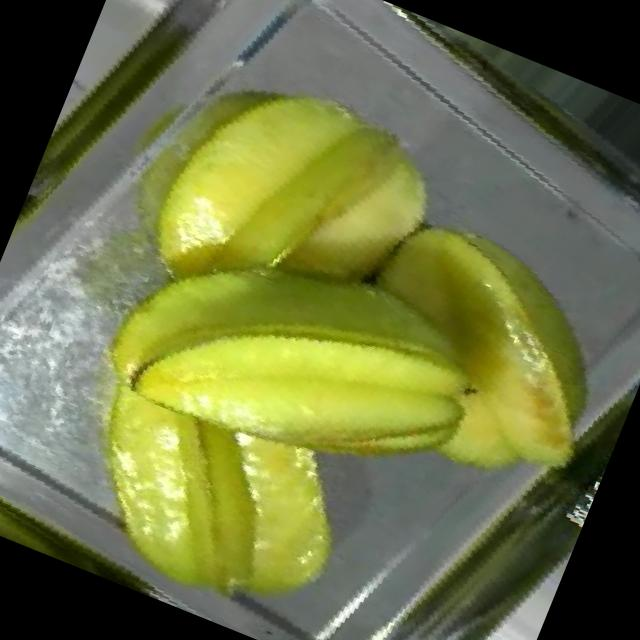fruit: (7, 0, 635, 627), (67, 0, 514, 422), (229, 134, 640, 571), (20, 320, 428, 640)
